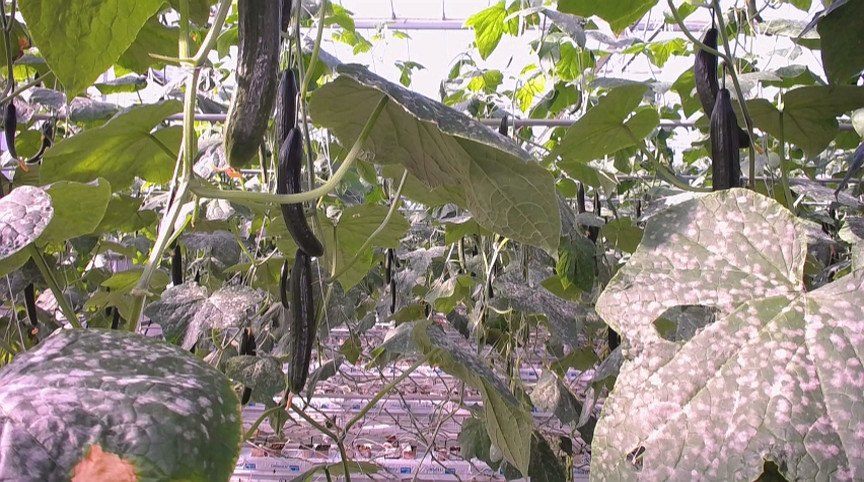cucumber: (223, 1, 280, 168), (277, 130, 325, 256), (288, 251, 312, 395), (708, 91, 742, 190), (692, 28, 721, 116), (276, 68, 298, 150)
